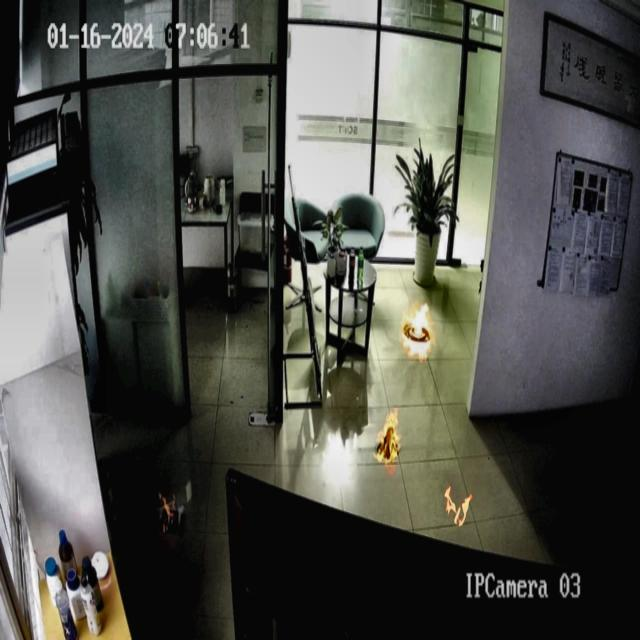fire: (437, 473, 488, 568), (390, 292, 440, 373), (373, 381, 411, 479), (152, 464, 192, 550)
